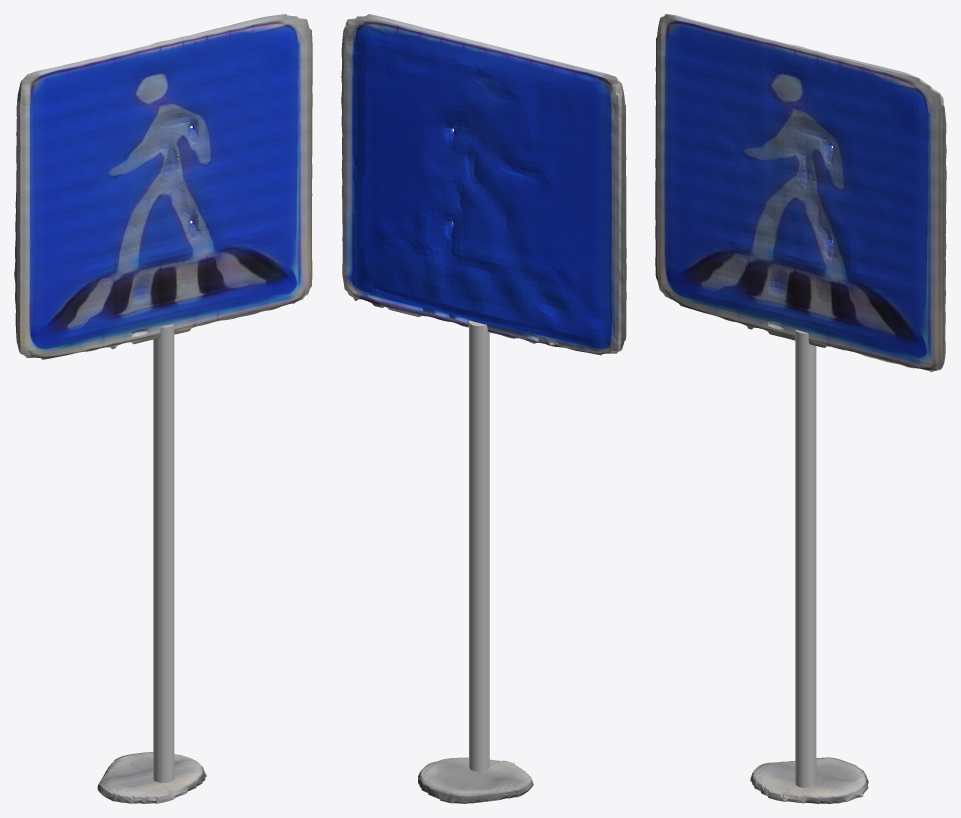
File: passadeira_sign_.obj
3 renders of one model, left to right at view 1: azimuth 30°, elevation 25°; view 2: azimuth 150°, elevation 25°; view 3: azimuth 330°, elevation 25°, orthographic. The views are drawn at different scales.
Parts seen in each view (by area): view 1: passadeira_sign_, Cylinder; view 2: passadeira_sign_, Cylinder; view 3: passadeira_sign_, Cylinder.
Part boxes in pixels (x1,y1,x2,y2): passadeira_sign_: [14, 14, 312, 803]; Cylinder: [153, 324, 174, 782]; passadeira_sign_: [341, 14, 626, 803]; Cylinder: [469, 320, 489, 771]; passadeira_sign_: [655, 14, 946, 803]; Cylinder: [795, 330, 816, 787].
Size of the model in its own units: 0.8017 by 1.96 by 0.2499.
Materials: 2 (1 with a texture image).
